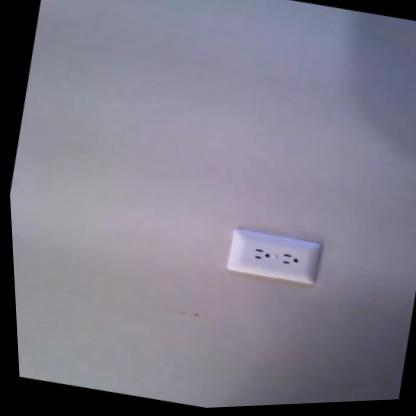OUTLET: (221, 222, 323, 290)
